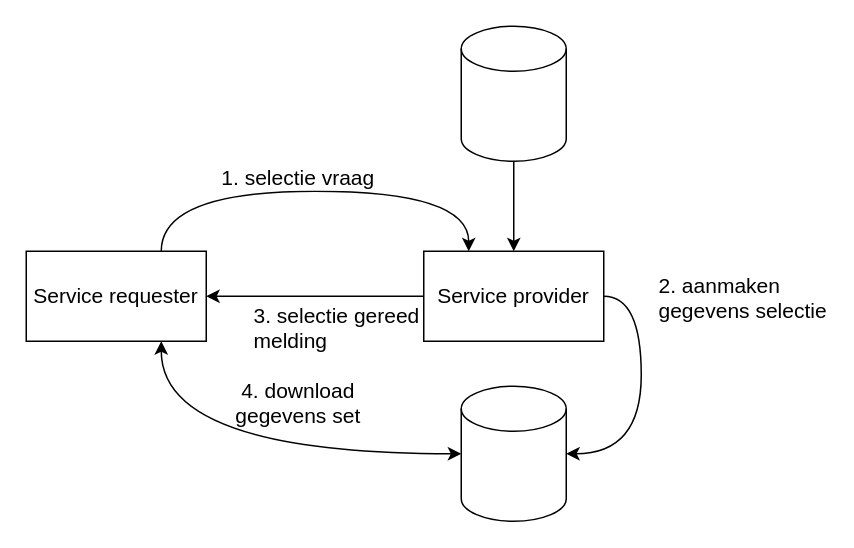
Some shapes in this 854 by 548 pixel diagram are drawn without their labels. Here are the shapes that lost their labels. From the top down, the centre of each, then its label:
[513,93]: data
[513,453]: gegevens set
